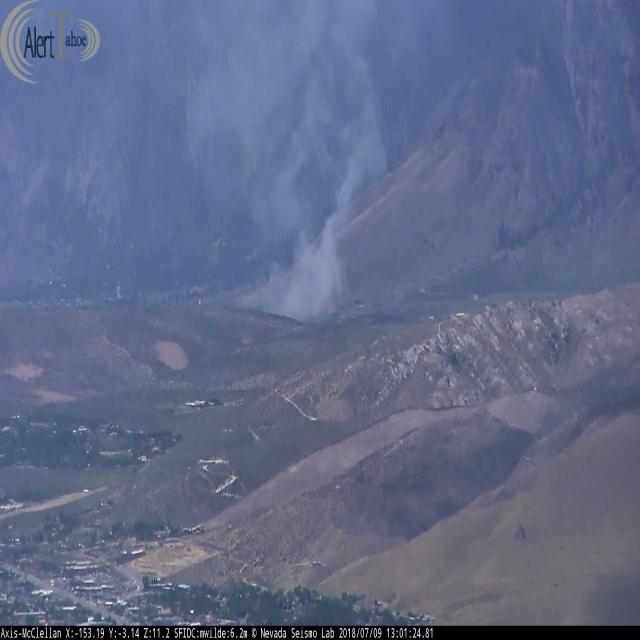smoke: (226, 0, 391, 320)
